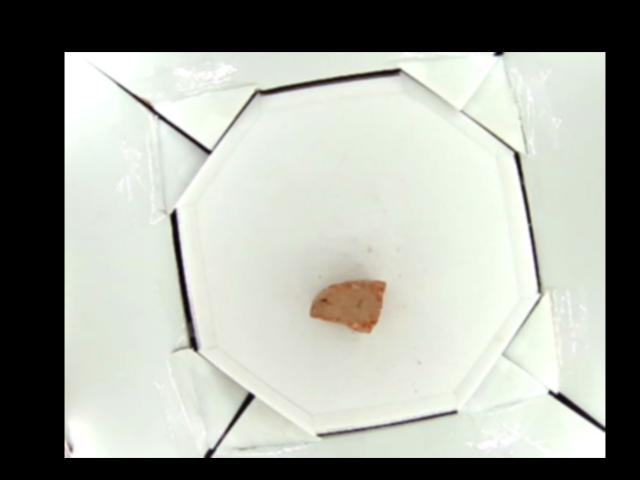Brisk: (310, 279, 386, 333)
